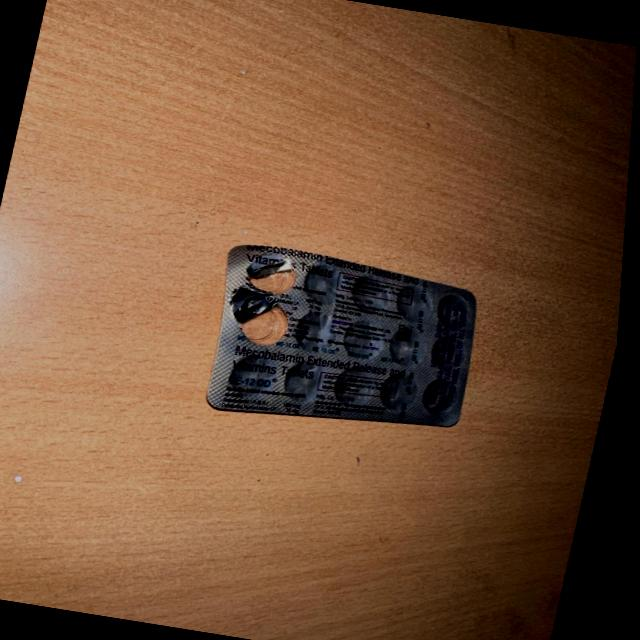medicine: (178, 227, 511, 445)
